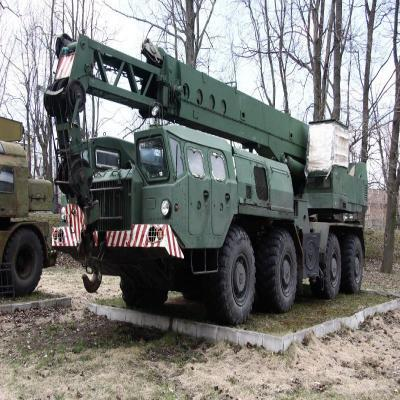weapon: (41, 35, 368, 327)
